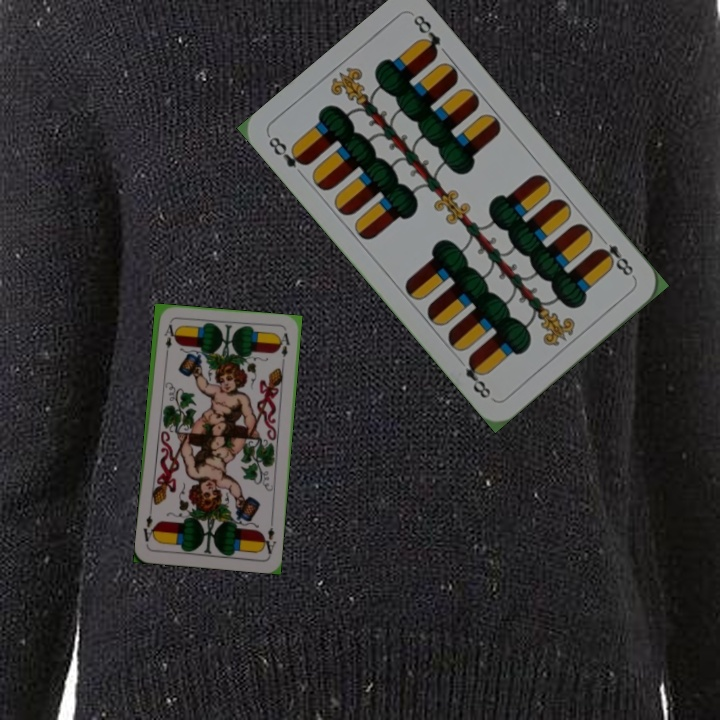E8: (593, 232, 638, 281), (264, 132, 311, 171)
EA: (258, 517, 279, 557), (160, 320, 175, 360)
